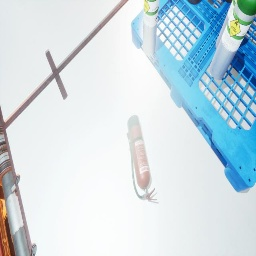0: (210, 0, 256, 80), (215, 0, 237, 50), (143, 0, 160, 56)
FireExtinguisher ]: (127, 115, 157, 200)
NitrogenTank ,: (187, 0, 201, 4), (225, 0, 233, 2)
